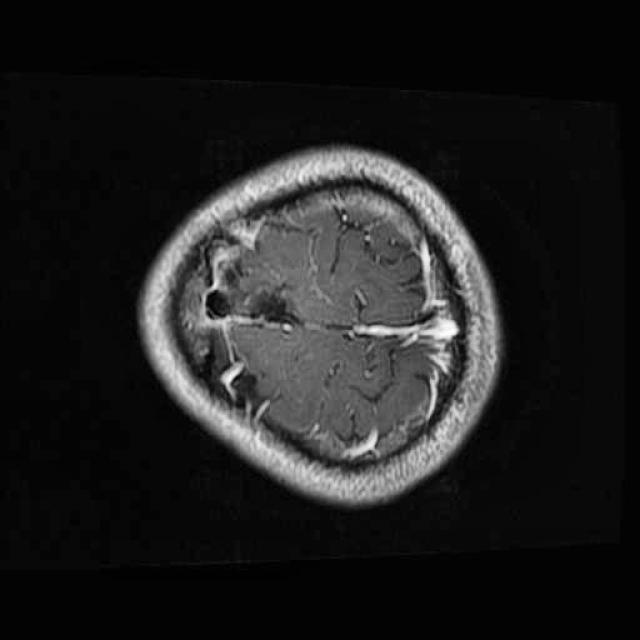Tumor: (240, 262, 311, 339)
